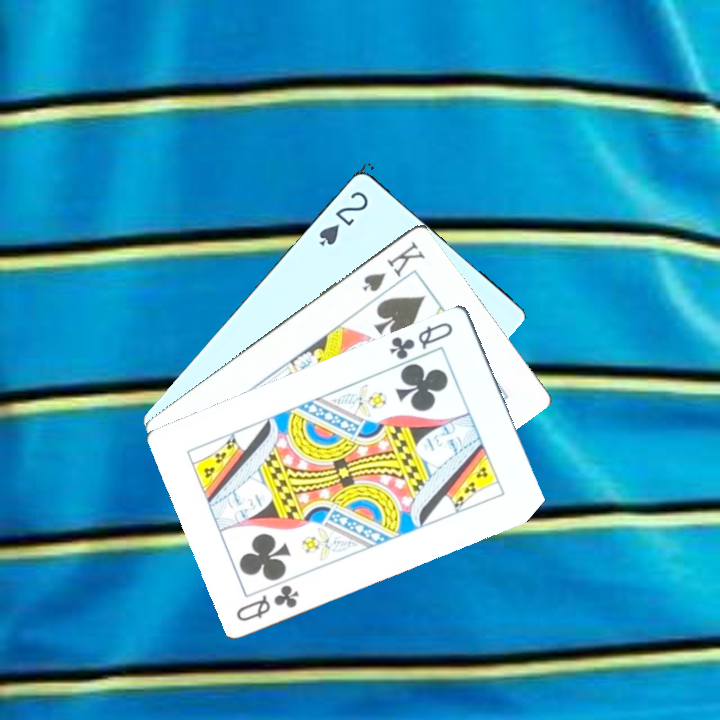2s: (315, 187, 371, 248)
Ks: (358, 238, 428, 295)
Qc: (385, 318, 456, 375), (232, 580, 302, 624)
